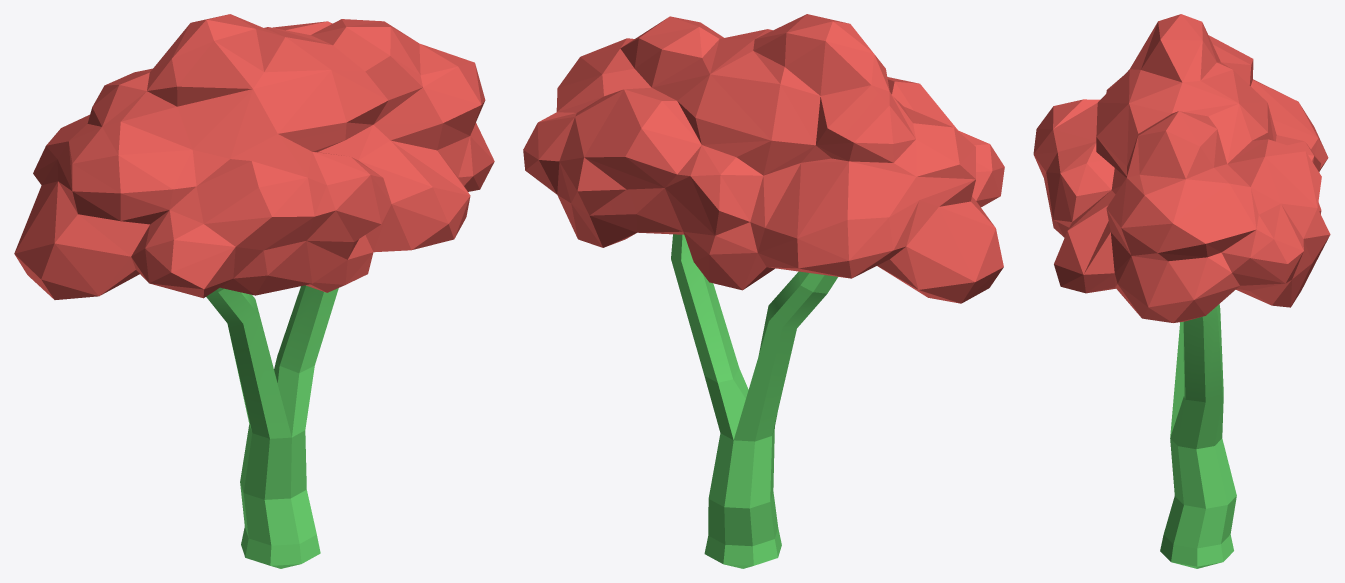
The model's file is tree fixed model v2.fbx.
The picture shows the model from 3 angles, left to right: view 1: azimuth 30°, elevation 25°; view 2: azimuth 150°, elevation 25°; view 3: azimuth 270°, elevation 25°; orthographic projection. The views are drawn at different scales.
Parts seen in each view (by area): view 1: SM_Tree_Round_02; view 2: SM_Tree_Round_02; view 3: SM_Tree_Round_02.
Boxes of the visible parts, <box> form: SM_Tree_Round_02: <box>14,14,494,568</box>; SM_Tree_Round_02: <box>523,14,1004,568</box>; SM_Tree_Round_02: <box>1033,14,1330,568</box>.
Size of the model in its own units: 8278 by 10146 by 5268.
